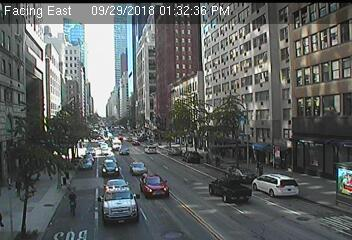car: (97, 179, 140, 223), (208, 176, 251, 204), (253, 173, 300, 198), (141, 174, 169, 197), (225, 168, 257, 183), (102, 159, 120, 176), (130, 162, 149, 176), (182, 151, 201, 164), (167, 147, 183, 156), (80, 159, 93, 170), (111, 139, 121, 151), (144, 145, 157, 154), (119, 148, 129, 157), (84, 154, 94, 162)
